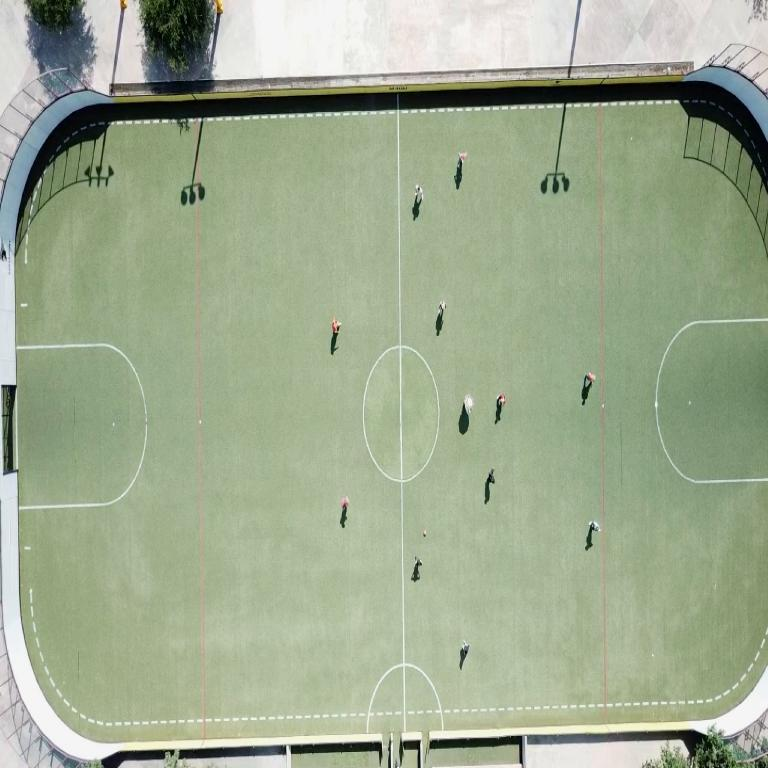AC: (16, 343, 147, 509), (654, 318, 767, 484)
B: (424, 531, 427, 537)
MC: (397, 94, 404, 731)
P: (413, 556, 422, 579), (463, 394, 473, 414), (583, 373, 594, 389), (496, 393, 505, 409), (331, 317, 339, 335), (415, 185, 422, 204), (589, 521, 601, 532), (486, 469, 494, 484), (340, 496, 348, 511), (439, 300, 446, 316), (463, 643, 469, 658), (460, 153, 466, 163)
